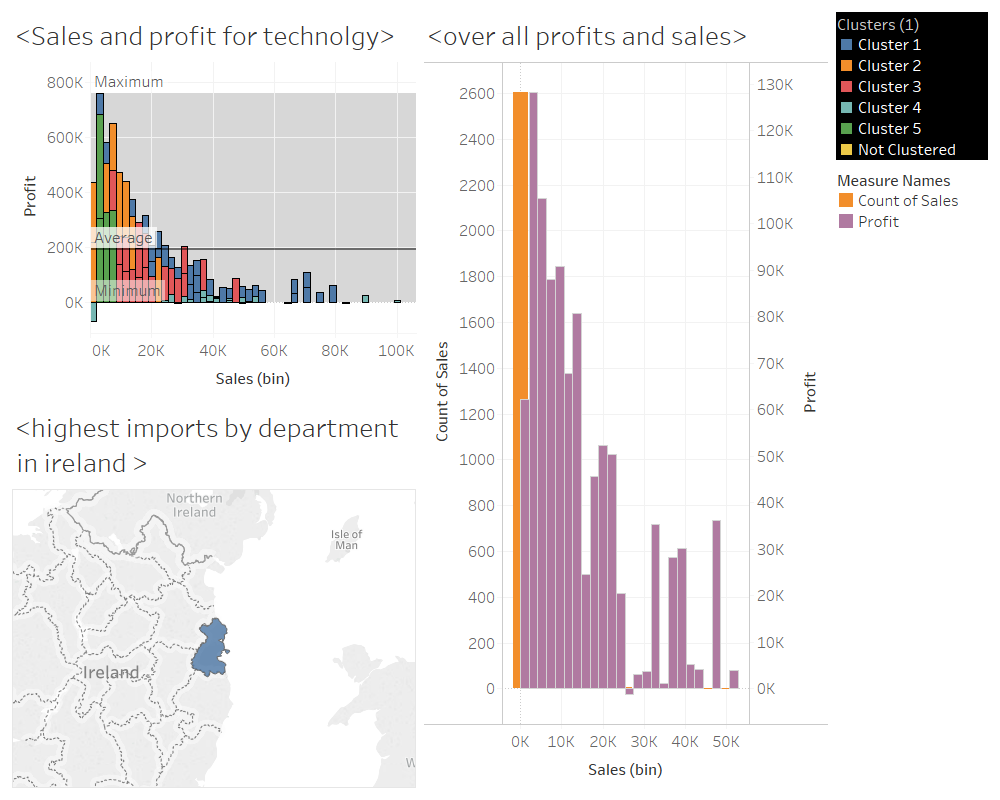

This screenshot's page, from the dashboard's own definition file:
{"tool":"tableau","page":{"name":"Dashboard 7","canvas":[1000,800],"ordinal":6},"visuals":[{"type":"worksheet","title":"Sheet 14","mark":"Automatic","rows":["Profit"],"cols":["Sales (bin)"],"box":[8,8,412,392]},{"type":"worksheet","title":"Sheet 13","mark":"Automatic","rows":["Sales","Profit"],"cols":["Sales (bin)"],"box":[420,8,412,784]},{"type":"legend","title":"Sheet 14","param":"[federated.1t2m9ma0ygvi2v10ffru11um78qy].[none:AdhocCluster:2:ok]","box":[832,8,160,156]},{"type":"legend","title":"Sheet 13","param":"[federated.1t2m9ma0ygvi2v10ffru11um78qy].[:Measure Names]","box":[832,164,160,72]},{"type":"worksheet","title":"Sheet 6","mark":"Multipolygon","box":[8,400,412,392]}]}

Visuals, with their boxes in screenshot pixels (x1, y1, x2, y2), scaled from the page's 1000x800 canvas onto the 1000x800 screenshot:
"Sheet 14" worksheet: box(8, 8, 420, 400)
"Sheet 13" worksheet: box(420, 8, 832, 792)
"Sheet 14" legend: box(832, 8, 992, 164)
"Sheet 13" legend: box(832, 164, 992, 236)
"Sheet 6" worksheet (Multipolygon marks): box(8, 400, 420, 792)
